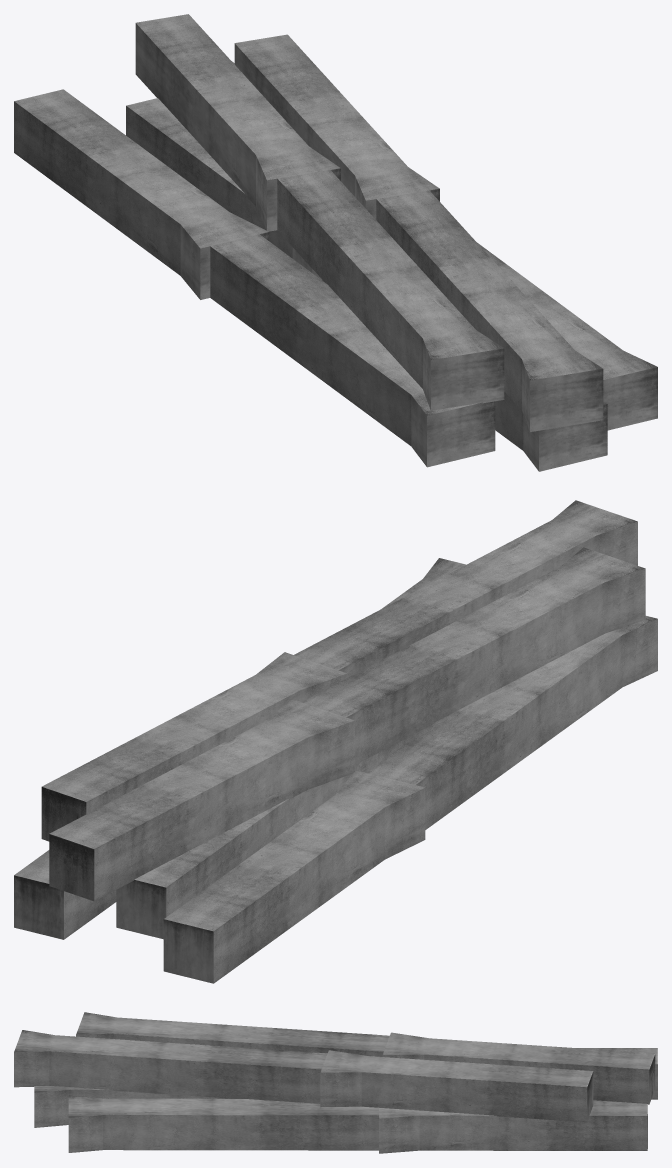
The model's file is pilars2.fbx.
3 renders of one model, top to bottom at view 1: azimuth 30°, elevation 25°; view 2: azimuth 150°, elevation 25°; view 3: azimuth 270°, elevation 25°, orthographic. The views are drawn at different scales.
Visible parts, largest first — view 1: pilarsBIg2; view 2: pilarsBIg2; view 3: pilarsBIg2.
Boxes of the visible parts, <box> form: pilarsBIg2: <box>14,14,657,471</box>; pilarsBIg2: <box>14,500,657,983</box>; pilarsBIg2: <box>14,1012,657,1153</box>.
Bounding box in the file's own units: 3.35 × 1.4 × 11.72.
